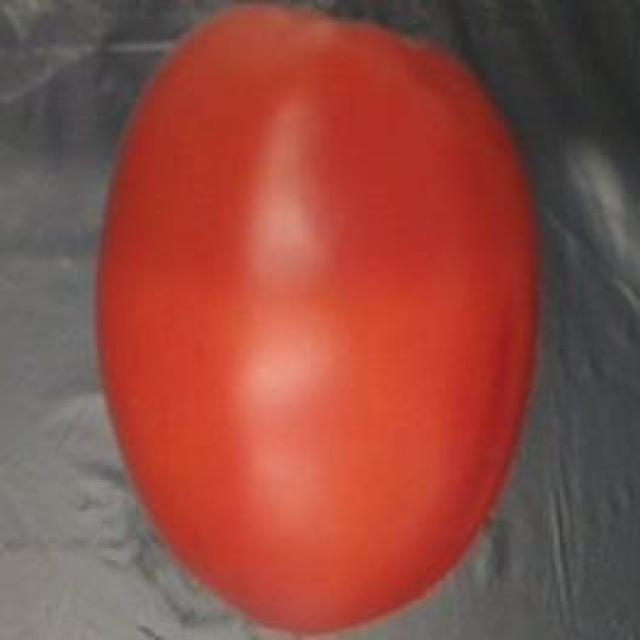ripe tomato: (80, 0, 567, 640)
